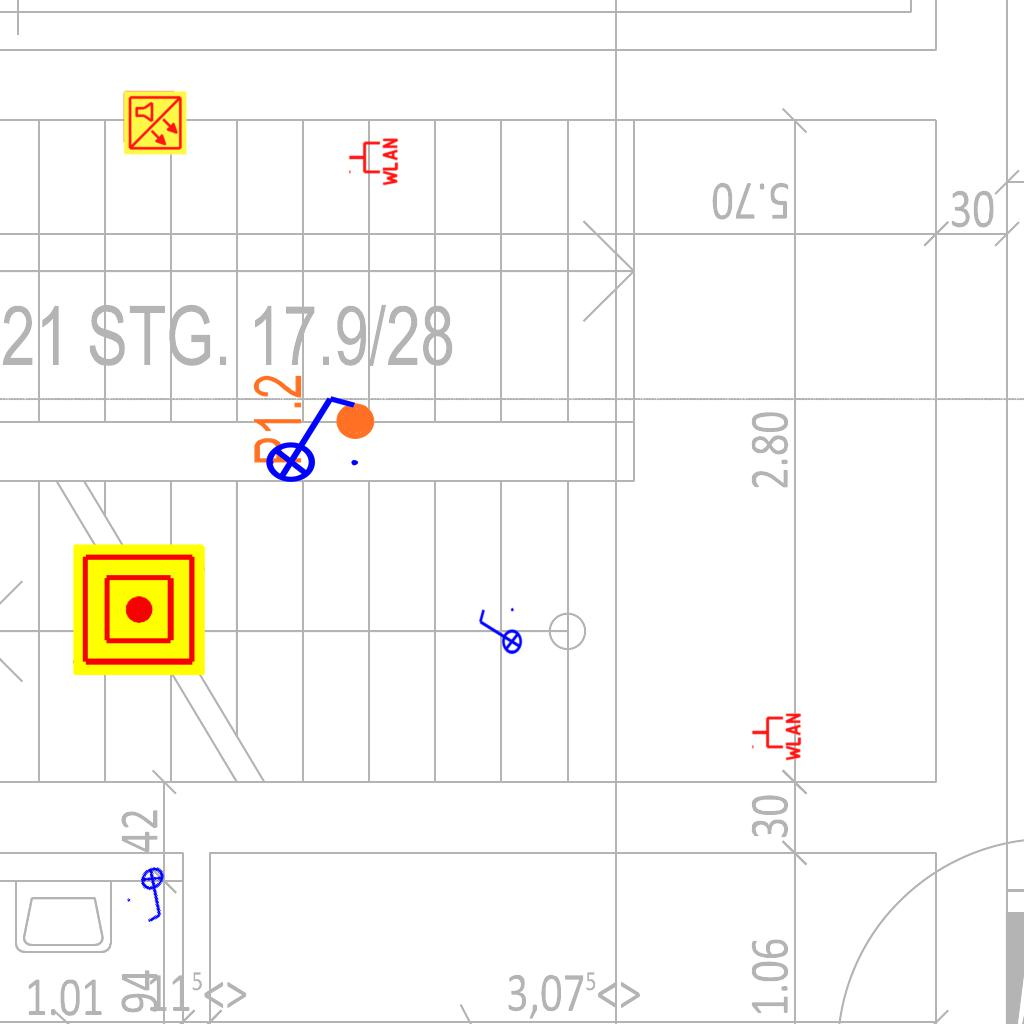Ausschalter_beleuchtet: (252, 388, 364, 484), (118, 857, 192, 931), (475, 605, 523, 661)
Downlight_LED_Einbauleuchten_Flur: (250, 373, 378, 466)
NAM-Nichtautomatischer_Melder: (73, 544, 205, 676)
OKW_Multisensormelder_(Kombination_optischer_Rauch-Kahlenmonoxid_Waerme-Melder): (122, 90, 188, 156)
WLAN: (750, 711, 802, 763), (347, 136, 399, 188)
